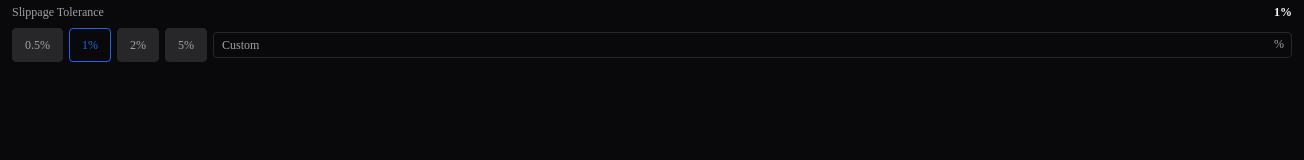
Test case: SlippageTolerance › supports custom slippage input and displays warning for high slippage
The image size is (1304, 160).
Step 1. Type "8" into the number field with placeholder "Custom" → (752, 45), box [213,32,1292,58]
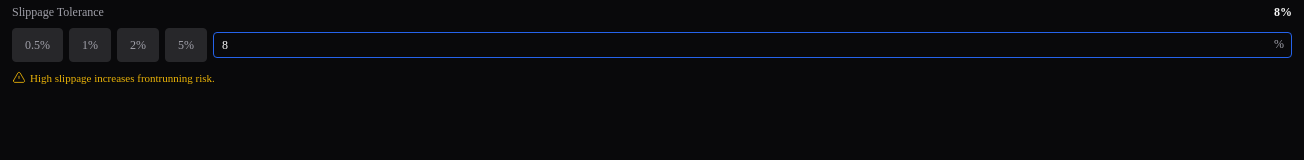
Check: the text "High slippage increases frontrunning risk." is shown, box [12,71,215,85]
